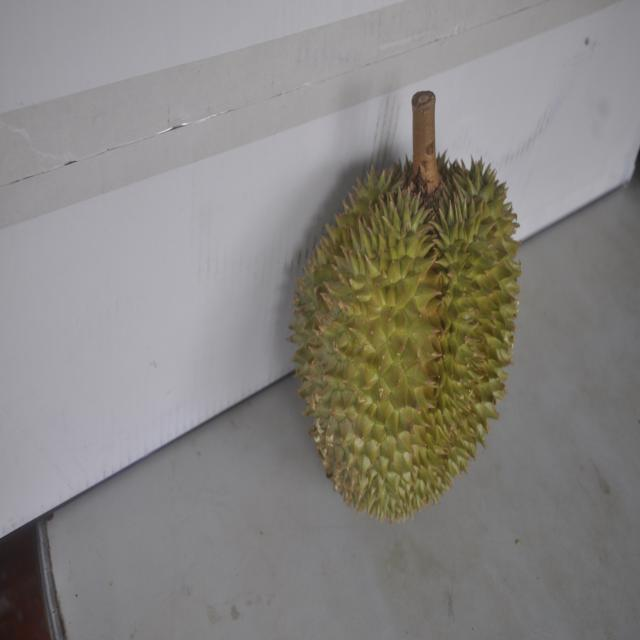mature: (295, 120, 520, 518)
